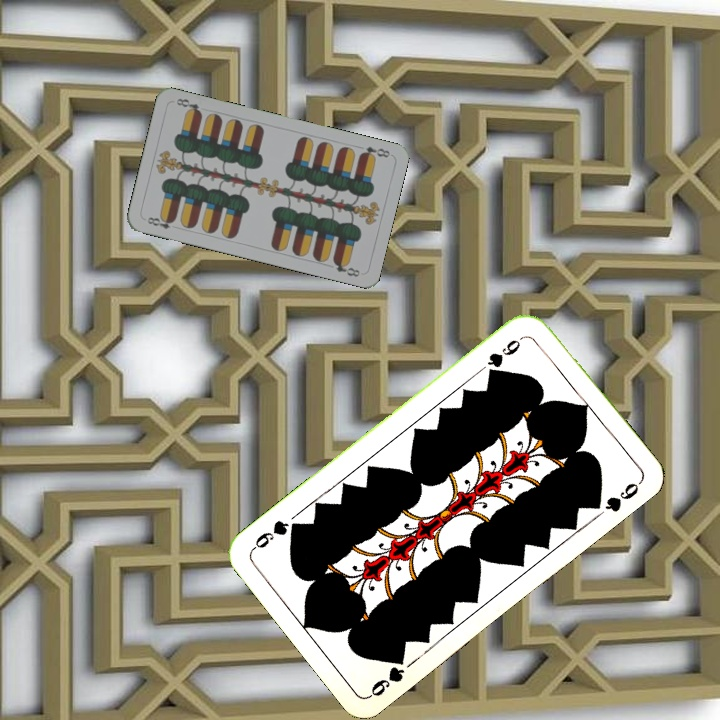E8: (355, 142, 392, 162), (143, 212, 177, 232)
G9: (365, 649, 408, 700), (483, 331, 528, 378)
